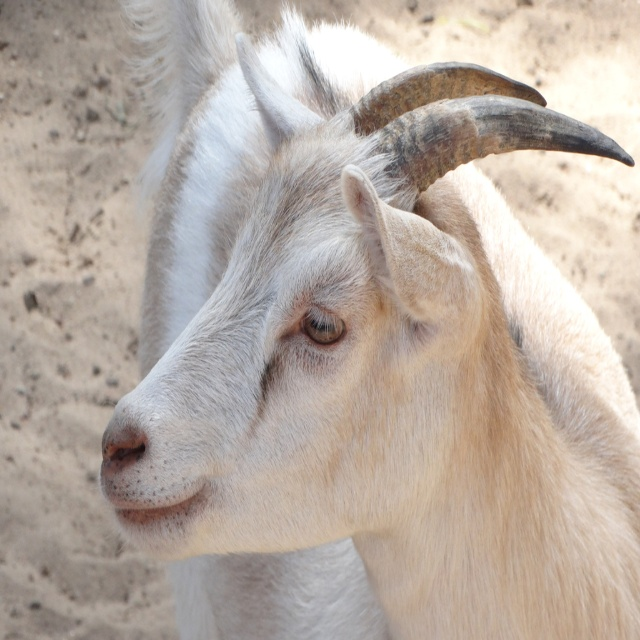Goat: (103, 33, 640, 640)
